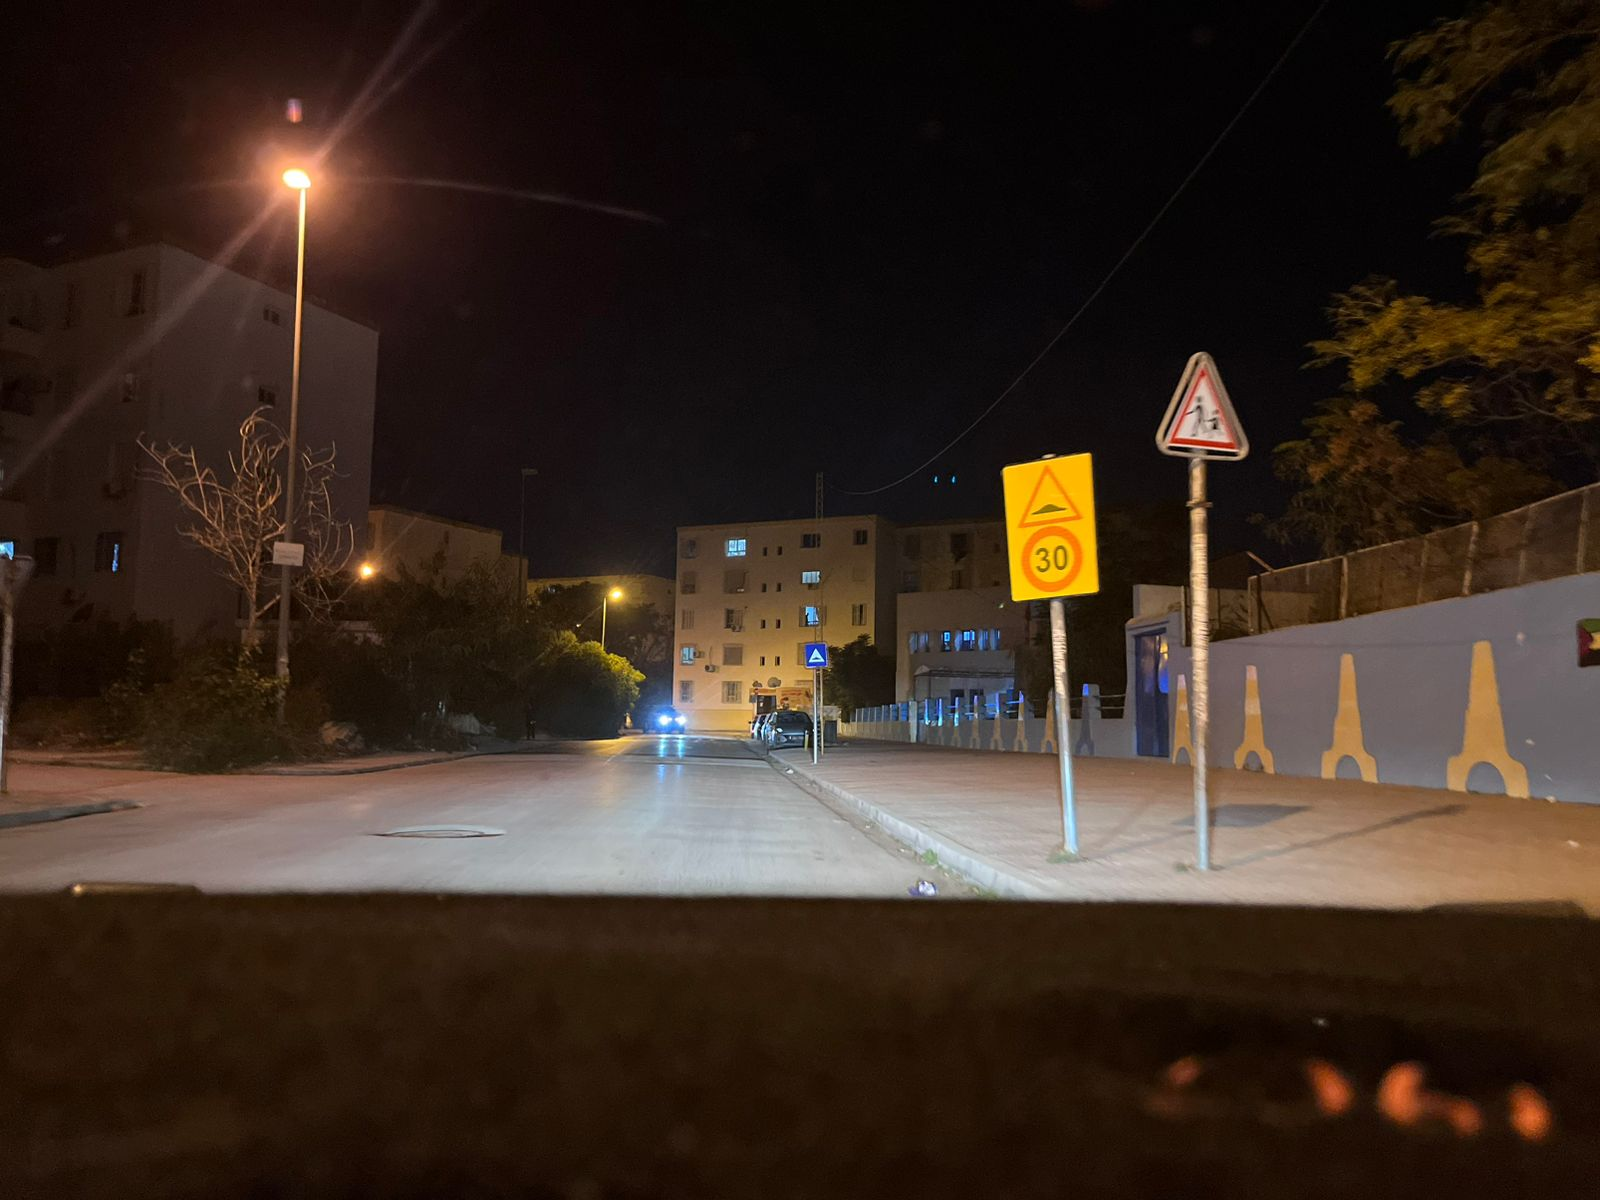SpeedLimit30: (1002, 451, 1100, 601)
